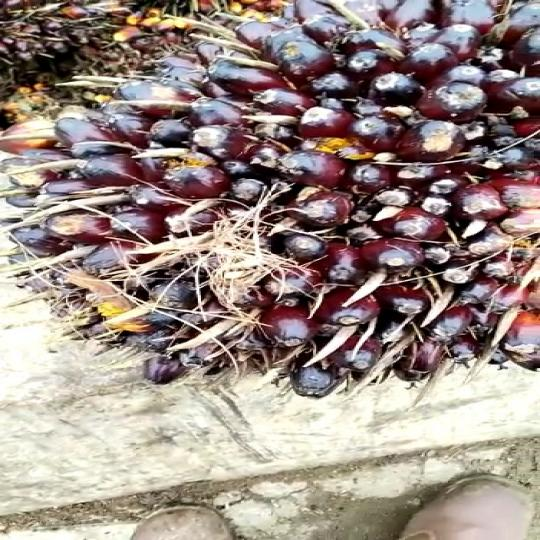kurang masak: (38, 0, 540, 397)
